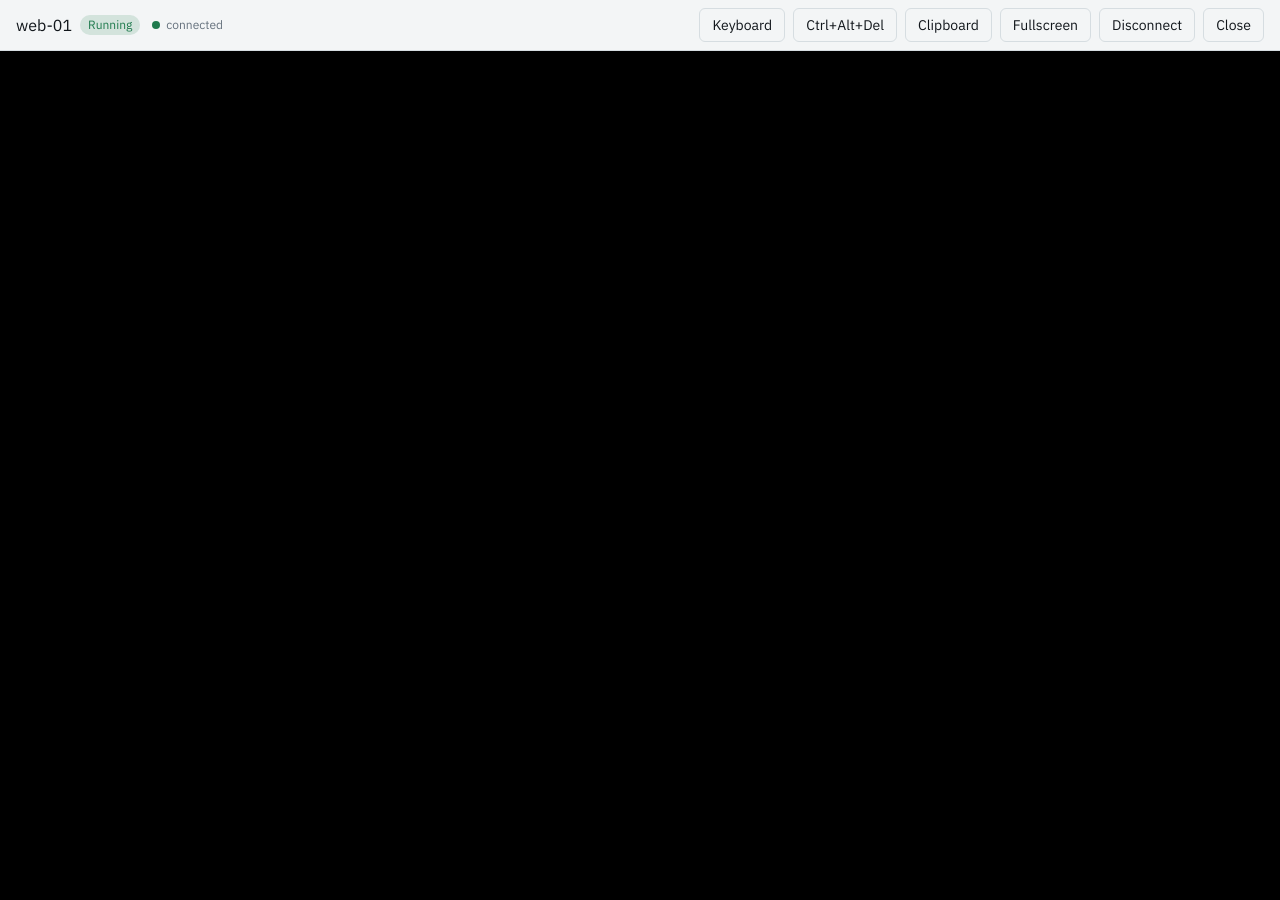
Test case: console clipboard › shows what was copied inside the VM, even if the panel was shut
The image size is (1280, 900).
Click the button "Clipboard".
click(948, 25)  # box [905,8,992,42]
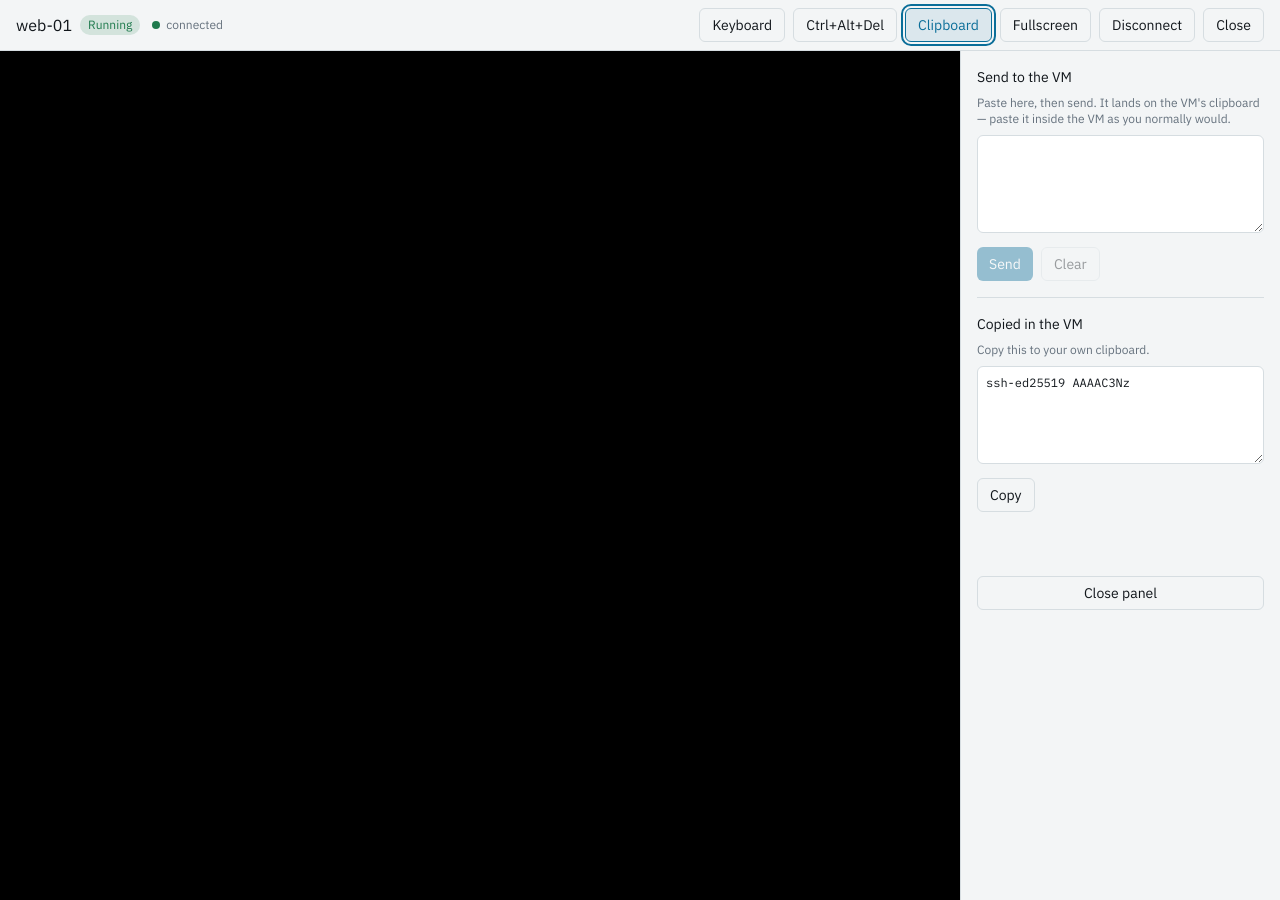
Expected: the text box labelled "Copied in the VM" holds "ssh-ed25519 AAAAC3Nz", [977,366,1264,464]
